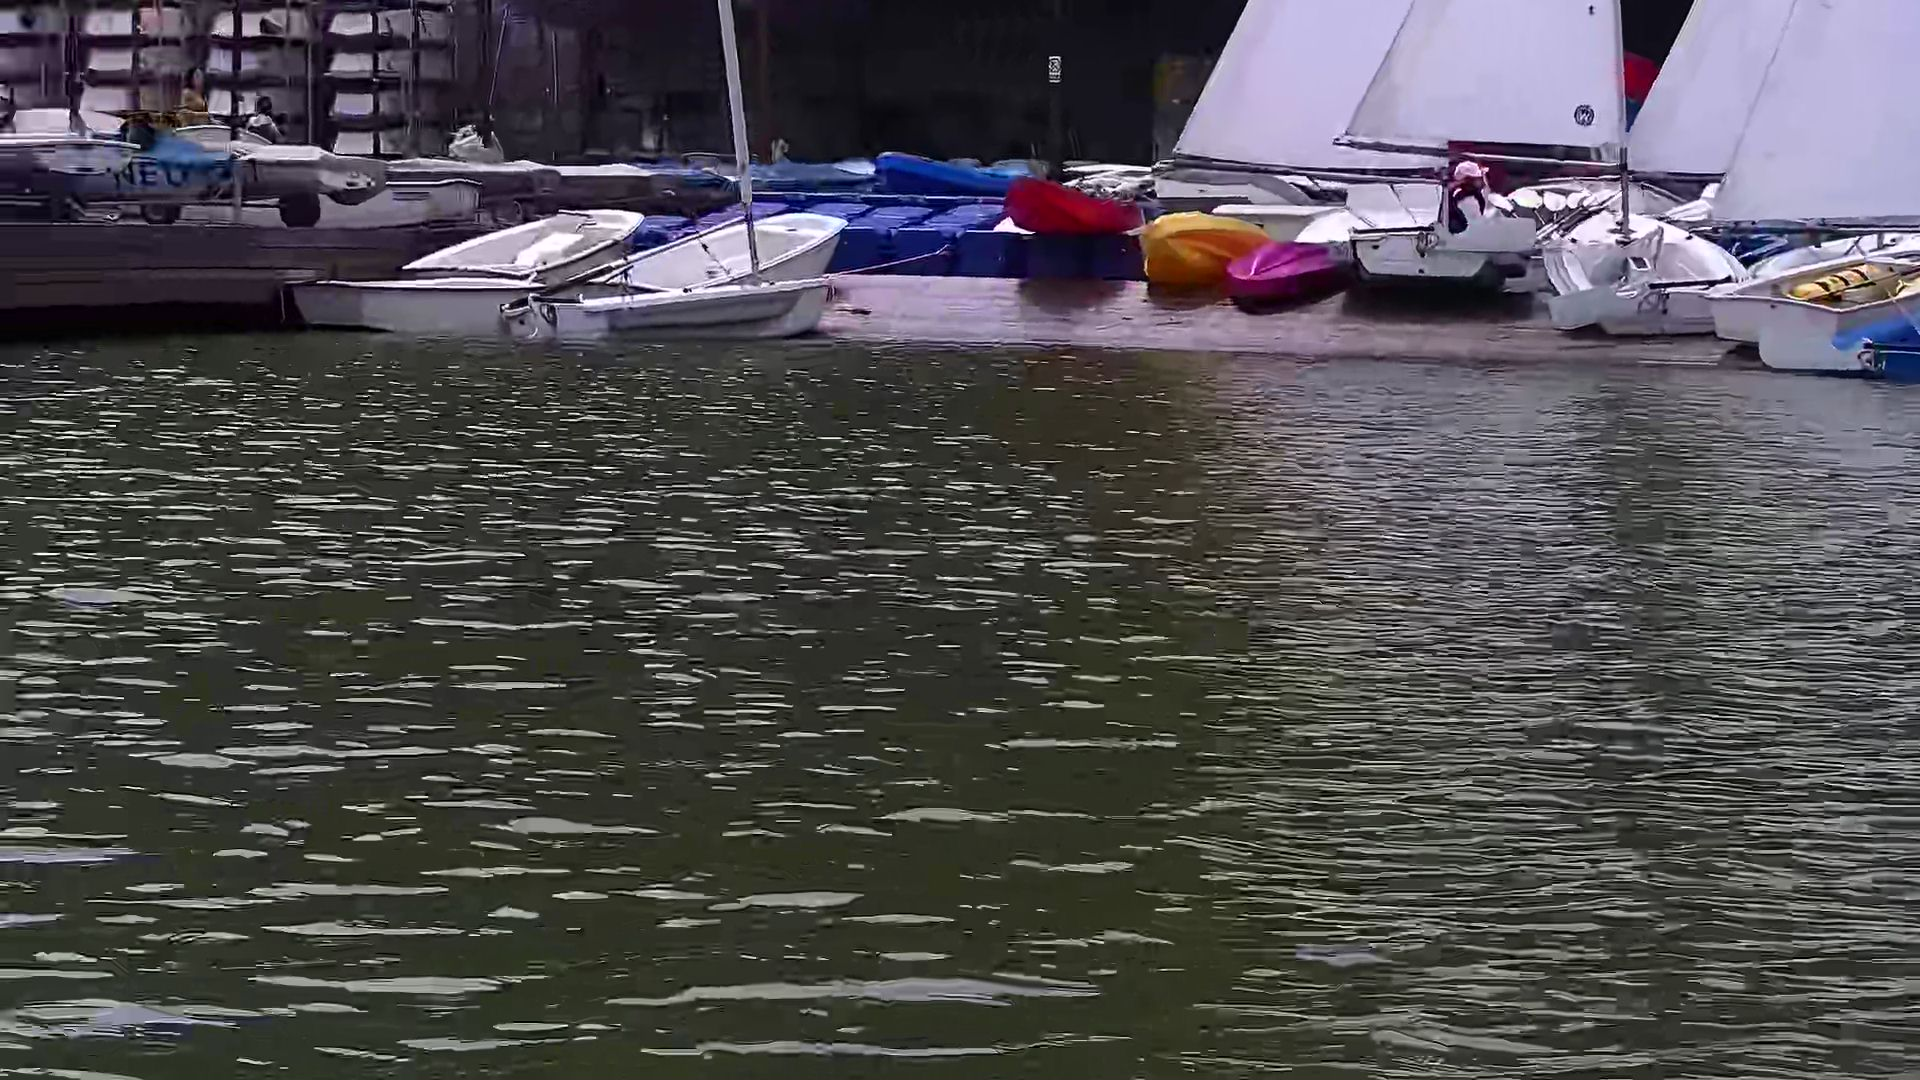harbor: (9, 73, 1905, 381)
